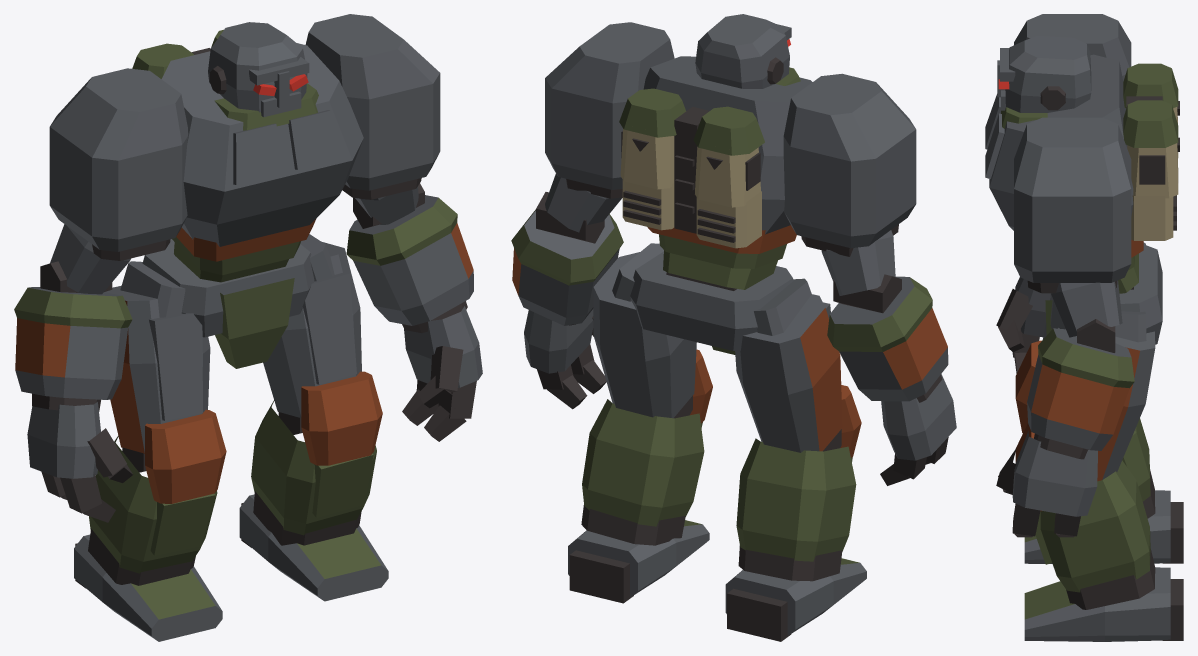
File: bot.glb
The picture shows the model from 3 angles, left to right: view 1: azimuth 30°, elevation 25°; view 2: azimuth 150°, elevation 25°; view 3: azimuth 270°, elevation 25°; orthographic projection. The views are drawn at different scales.
Parts seen in each view (by area): view 1: body-mesh, shoulder-r-mesh, knee-l-mesh, knee-r-mesh, shoulder-l-mesh, elbow-r-mesh, elbow-l-mesh, hip-r-mesh, hip-l-mesh, wrist-r-mesh, head-mesh, wrist-l-mesh (+1 smaller); view 2: body-mesh, shoulder-r-mesh, knee-r-mesh, knee-l-mesh, pack-mesh, shoulder-l-mesh, hip-r-mesh, elbow-r-mesh, hip-l-mesh, elbow-l-mesh, head-mesh, wrist-l-mesh (+1 smaller); view 3: shoulder-l-mesh, knee-l-mesh, elbow-l-mesh, body-mesh, pack-mesh, wrist-l-mesh, head-mesh, knee-r-mesh, shoulder-r-mesh, hip-l-mesh, wrist-r-mesh.
Part boxes in pixels (box(x1,y1,x2,y2)): body-mesh: box(120, 43, 363, 368); shoulder-r-mesh: box(49, 68, 188, 294); knee-l-mesh: box(239, 371, 388, 601); knee-r-mesh: box(74, 409, 226, 641); shoulder-l-mesh: box(305, 14, 440, 224); elbow-r-mesh: box(14, 261, 132, 411); elbow-l-mesh: box(346, 183, 473, 333); hip-r-mesh: box(104, 285, 210, 453); hip-l-mesh: box(263, 242, 361, 417); wrist-r-mesh: box(27, 402, 132, 522); head-mesh: box(208, 22, 309, 117); wrist-l-mesh: box(402, 306, 482, 441); body-mesh: box(612, 56, 812, 354); shoulder-r-mesh: box(783, 73, 916, 295); knee-r-mesh: box(725, 385, 866, 641); knee-l-mesh: box(568, 349, 712, 603); pack-mesh: box(619, 88, 764, 248); shoulder-l-mesh: box(545, 22, 674, 232); hip-r-mesh: box(735, 294, 842, 452); elbow-r-mesh: box(827, 274, 948, 402); hip-l-mesh: box(593, 252, 696, 418); elbow-l-mesh: box(511, 192, 623, 325); head-mesh: box(695, 14, 791, 88); wrist-l-mesh: box(524, 309, 606, 409); shoulder-l-mesh: box(1014, 117, 1131, 337); knee-l-mesh: box(1015, 423, 1183, 641); elbow-l-mesh: box(1027, 319, 1134, 459); body-mesh: box(985, 54, 1162, 344); pack-mesh: box(1123, 63, 1179, 240); wrist-l-mesh: box(996, 431, 1097, 537); head-mesh: box(997, 36, 1091, 112); knee-r-mesh: box(1015, 340, 1183, 563); shoulder-r-mesh: box(1014, 14, 1131, 81); hip-l-mesh: box(1058, 328, 1155, 481); wrist-r-mesh: box(996, 277, 1050, 373).
Bounding box in the file's own units: 1.82 × 2.3 × 0.7606.
